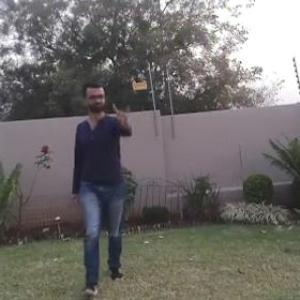takeoff-hand: (110, 101, 136, 135)
